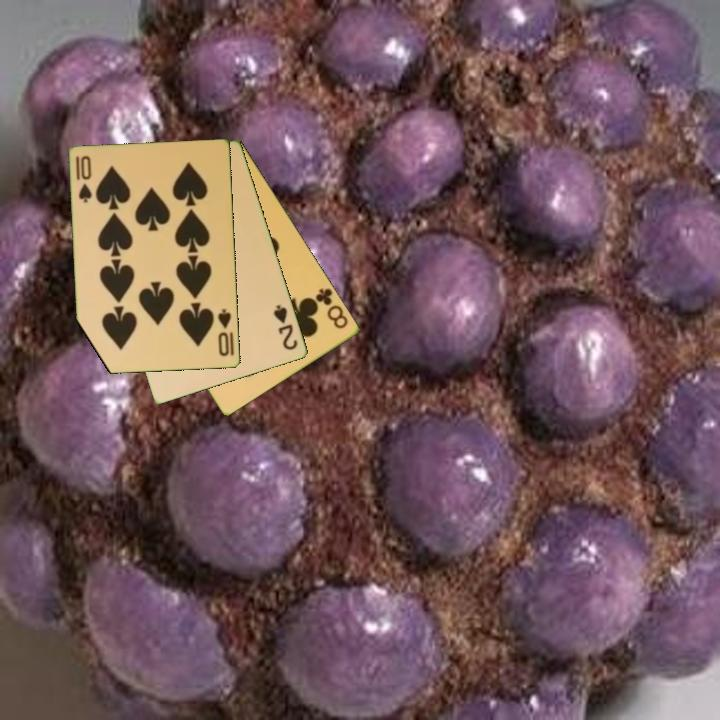10s: (72, 152, 95, 205), (215, 306, 234, 359)
2s: (270, 301, 301, 353)
8c: (310, 285, 351, 332)
